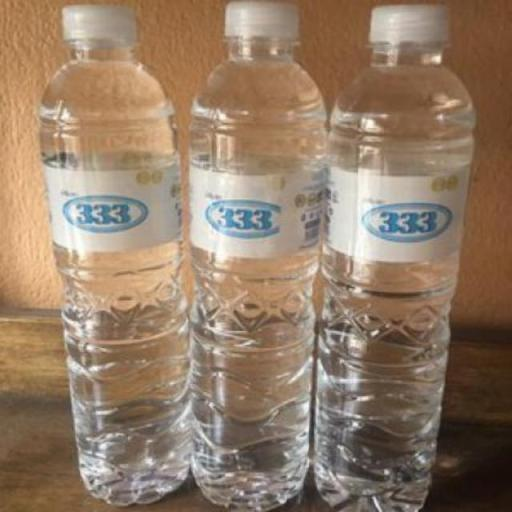Coca: (307, 0, 483, 510), (30, 0, 206, 508), (177, 0, 334, 510)
